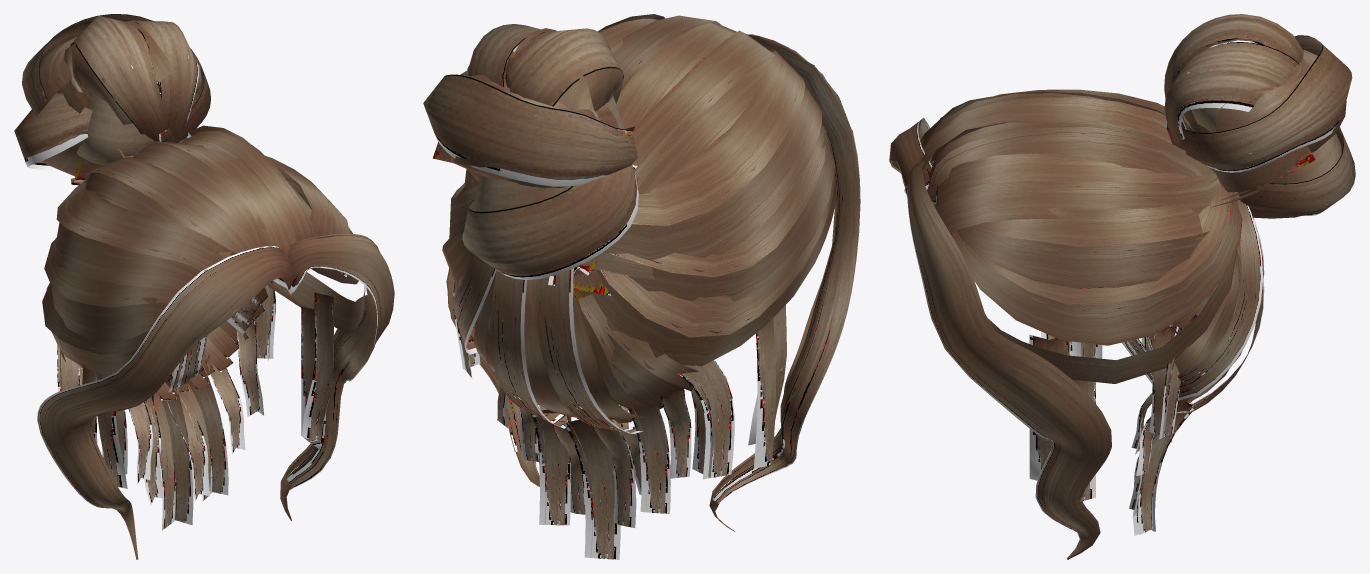
Rendered from Hair_Blender 2 v2.FBX.
The picture shows the model from 3 angles, left to right: view 1: azimuth 30°, elevation 25°; view 2: azimuth 150°, elevation 25°; view 3: azimuth 270°, elevation 25°; orthographic projection. The views are drawn at different scales.
Parts seen in each view (by area): view 1: Cut001; view 2: Cut001; view 3: Cut001.
Boxes of the visible parts, x1,y1,x2,y2 form: Cut001: [14, 14, 394, 559]; Cut001: [423, 14, 860, 559]; Cut001: [889, 14, 1355, 559].
Bounding box in the file's own units: 28.3 × 40.65 × 34.01.
1 material, 1 textured.
